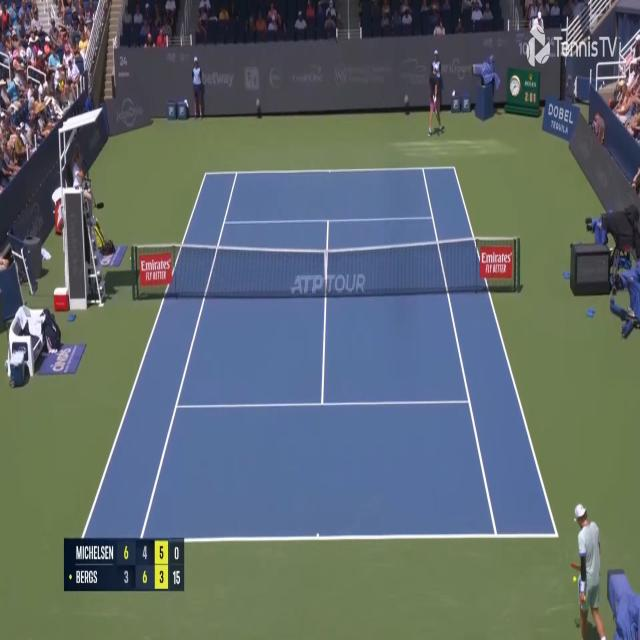tennis-player: (570, 500, 608, 640), (427, 64, 446, 142)
